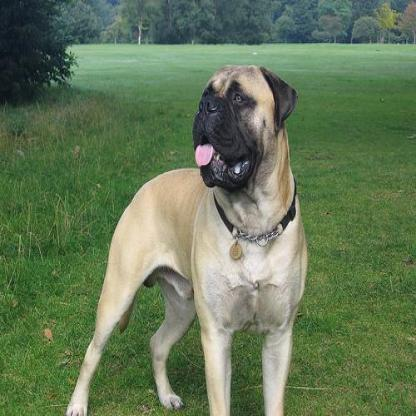bull_mastiff: (65, 62, 306, 414)
